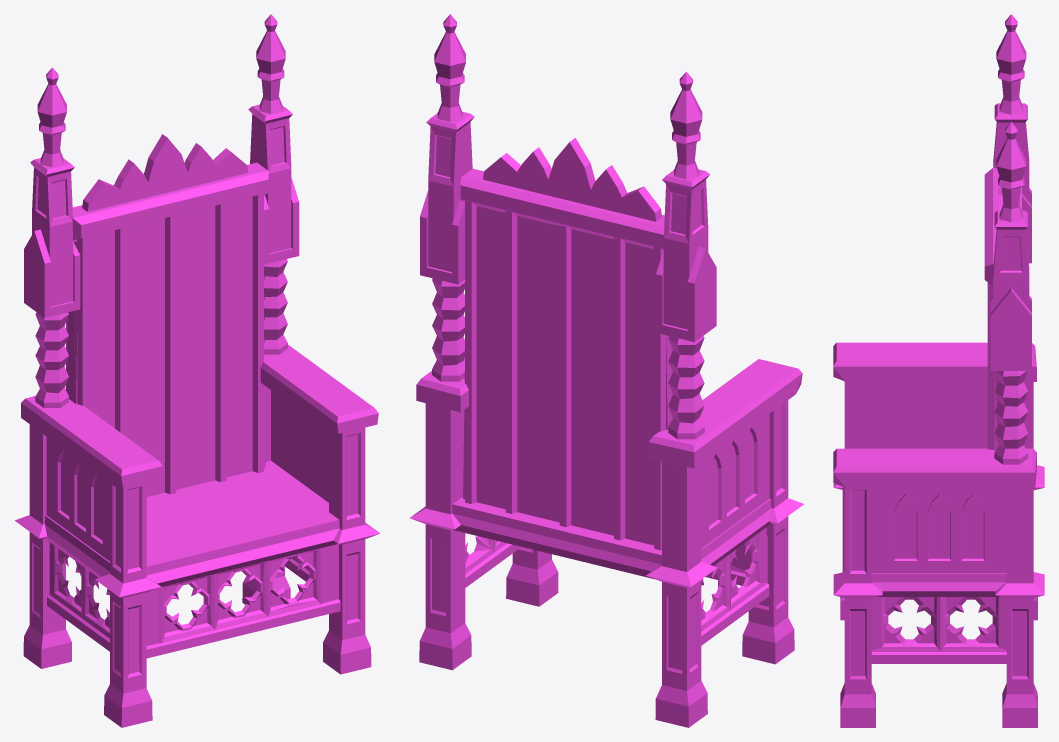
The model's file is SM_Throne_B_Fantasy.fbx.
The picture shows the model from 3 angles, left to right: view 1: azimuth 30°, elevation 25°; view 2: azimuth 150°, elevation 25°; view 3: azimuth 270°, elevation 25°; orthographic projection. The views are drawn at different scales.
Parts seen in each view (by area): view 1: SM_Throne_B_Fantasy; view 2: SM_Throne_B_Fantasy; view 3: SM_Throne_B_Fantasy.
Part boxes in pixels (box(x1,y1,x2,y2)): SM_Throne_B_Fantasy: box(15, 14, 379, 727); SM_Throne_B_Fantasy: box(409, 14, 803, 727); SM_Throne_B_Fantasy: box(833, 14, 1044, 727).
Bounding box in the file's own units: 0.8352 × 1.82 × 0.5817.
